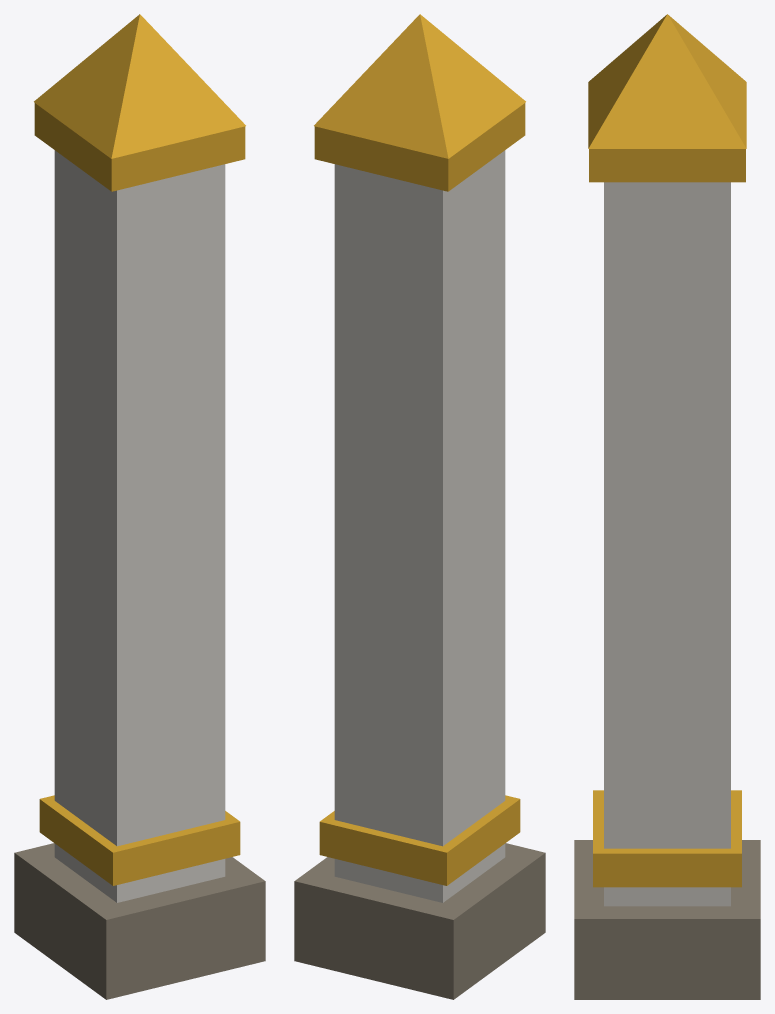
File: gate_pillar.fbx
3 views of the same model, side by side, from view 1: azimuth 30°, elevation 25°; view 2: azimuth 150°, elevation 25°; view 3: azimuth 270°, elevation 25° (orthographic).
Visible parts, largest first — view 1: gate_pillar_Main; view 2: gate_pillar_Main; view 3: gate_pillar_Main.
Boxes of the visible parts, left/top/right/bottom form: gate_pillar_Main: left=14, top=14, right=265, bottom=999; gate_pillar_Main: left=294, top=14, right=545, bottom=999; gate_pillar_Main: left=574, top=14, right=760, bottom=999.
Bounding box in the file's own units: 0.5 × 2.8 × 0.5.
